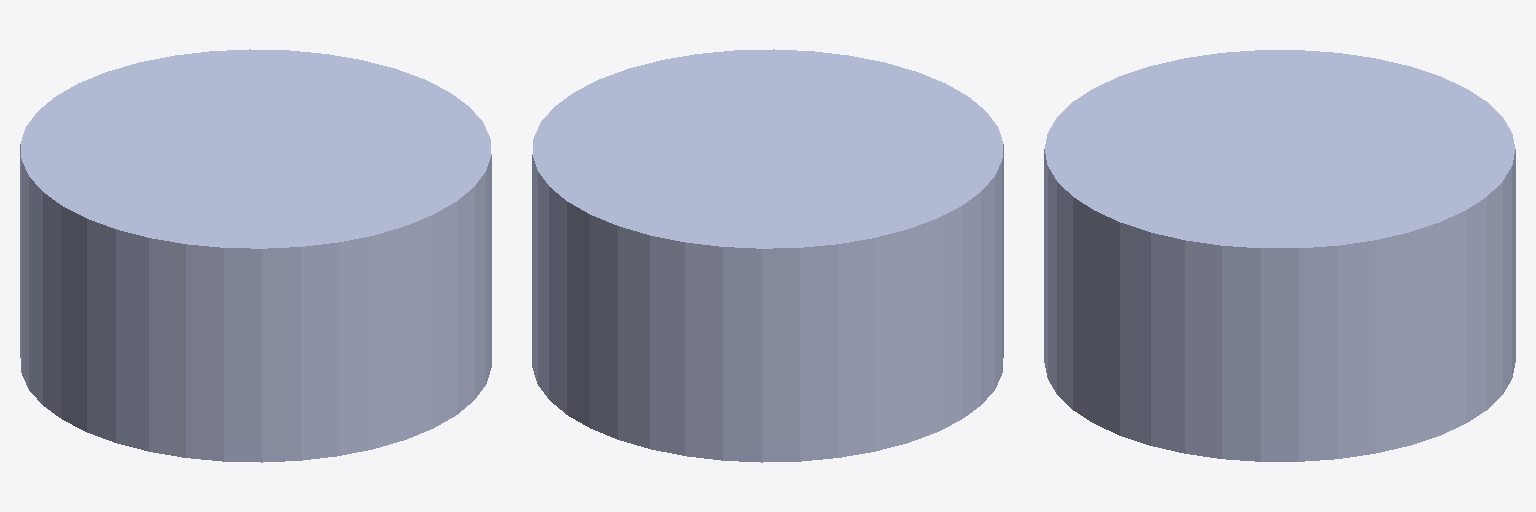
URDF robot description (cyl):
<?xml version="1.0" encoding="utf-8"?>
<!-- This URDF was automatically created by SolidWorks to URDF Exporter! Originally created by [author] ([email redacted]) 
     Commit Version: 1.5.1-0-g916b5db  Build Version: 1.5.7152.31018
     For more information, please see http://wiki.ros.org/sw_urdf_exporter -->
<robot
  name="cyl">
  <link
    name="cyl">
    <inertial>
      <origin
        xyz="0 -1.11837503467721E-18 -0.0127"
        rpy="0 0 0" />
      <mass
        value="0.051481" />
      <inertia
        ixx="1.1071E-05"
        ixy="-6.3424E-38"
        ixz="-3.2092E-38"
        iyy="1.1071E-05"
        iyz="3.38971038738034E-22"
        izz="1.6607E-05" />
    </inertial>
    <visual>
      <origin
        xyz="0 0 0"
        rpy="1.5707963267949 0 0" />
      <geometry>
        <mesh
          filename="package://cyl/meshes/cyl.STL" />
      </geometry>
      <material
        name="">
        <color
          rgba="0.79216 0.81961 0.93333 1" />
        <texture
          filename="package://cyl/textures/" />
      </material>
    </visual>
    <collision>
      <origin
        xyz="0 0 0"
        rpy="1.5707963267949 0 0" />
      <geometry>
        <mesh
          filename="package://cyl/meshes/cyl.STL" />
      </geometry>
    </collision>
  </link>
</robot>

--- Render facts (derived) ---
3 views of the same robot in one strip: view 1: azimuth 30°, elevation 25°; view 2: azimuth 150°, elevation 25°; view 3: azimuth 270°, elevation 25° (orthographic).
Model cyl with 1 links and 0 joints (none), rooted at cyl, posed every joint at zero.
Visible links, largest first — view 1: cyl; view 2: cyl; view 3: cyl.
Boxes of the visible links, <box> form: cyl: <box>20,49,491,462</box>; cyl: <box>532,49,1003,462</box>; cyl: <box>1044,50,1515,461</box>.
Bounding box of the posed robot: 0.0506 × 0.0508 × 0.0254 m (x, y, z).
1 mesh visuals loaded from 1 distinct referenced files (1 binary STL).
